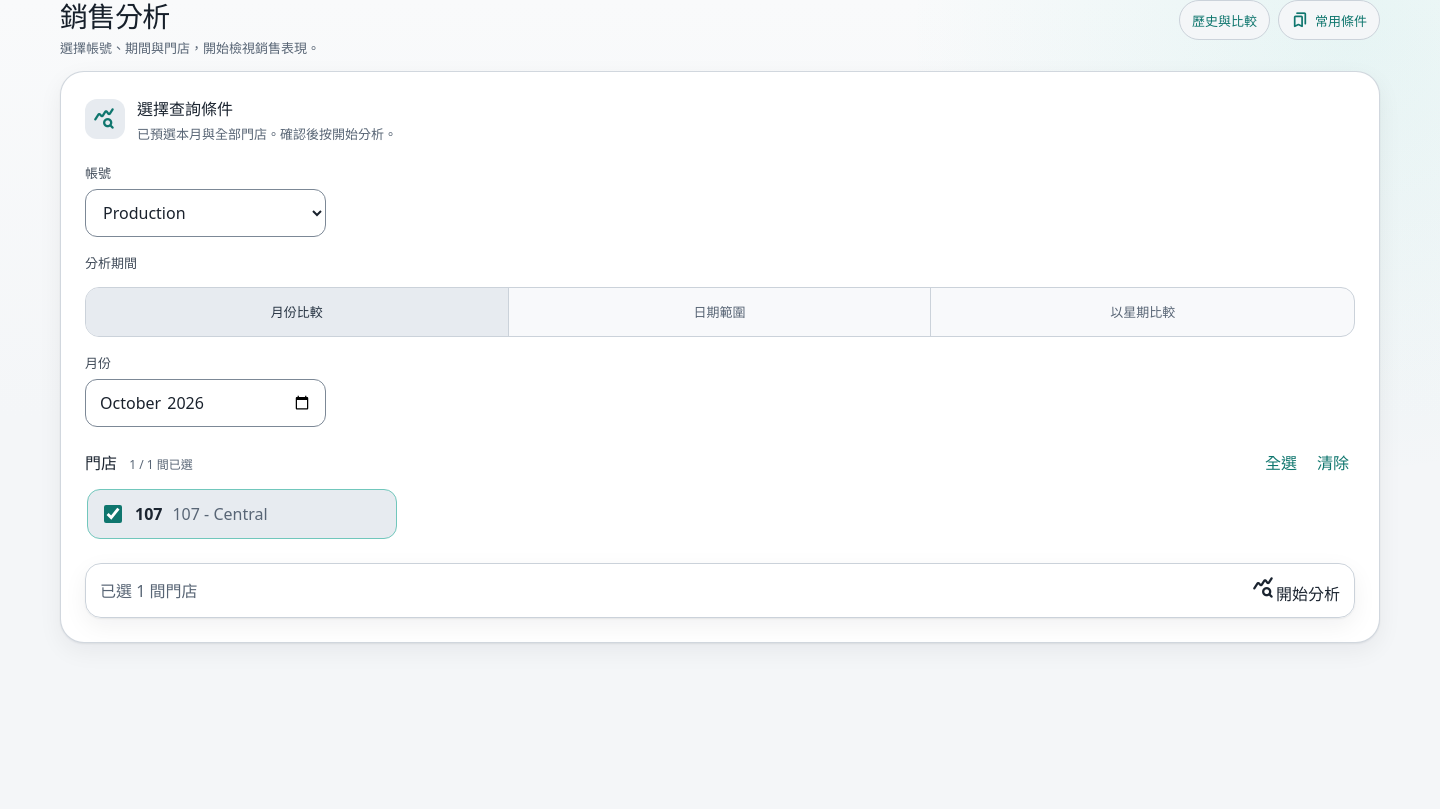
sales analysis page › exports PDFs from a slim analysis without dropping period rows
Expected: the text "107 - Central" is shown, [172,503,268,525]
Click the text "開始分析".
click(1296, 590)  # box [1252,576,1340,605]
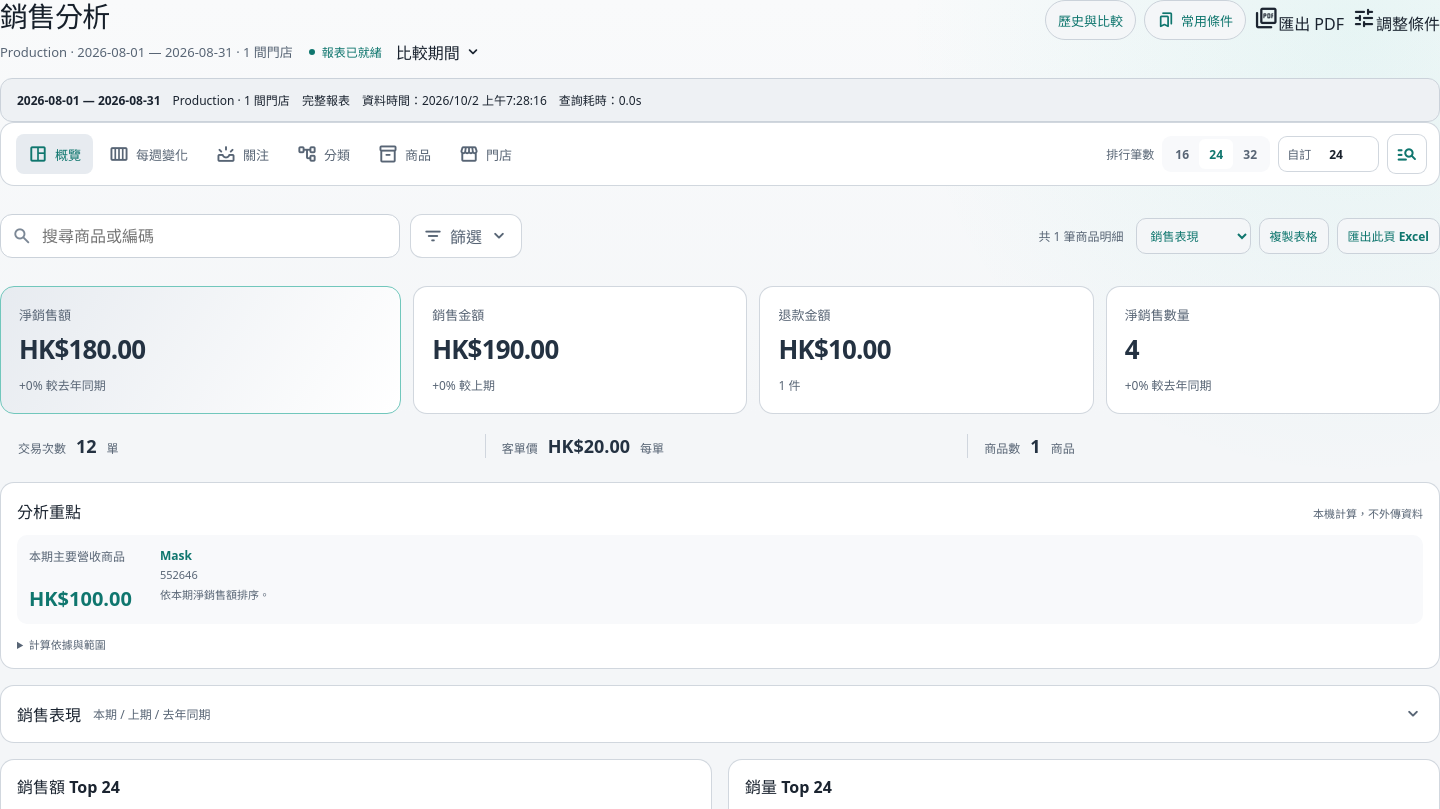
Now the heading "銷售額 Top 24" is shown, box [17,774,120,798]
Click the tab "分類".
click(324, 154)  # box [285,134,362,174]
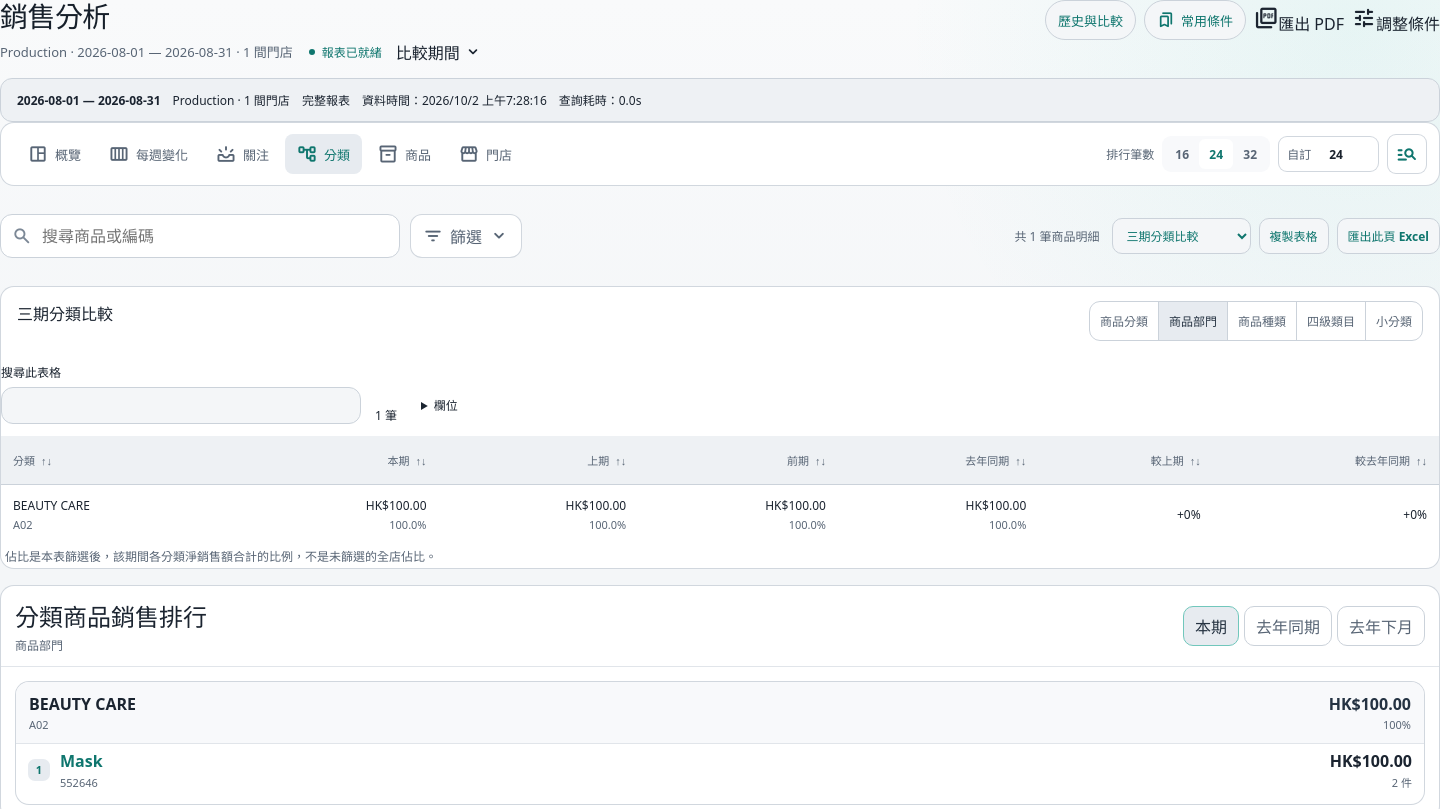
Now the heading "三期分類比較" is shown, box [17,301,113,325]
Click the text "匯出 PDF".
click(1299, 20)  # box [1254,6,1344,34]
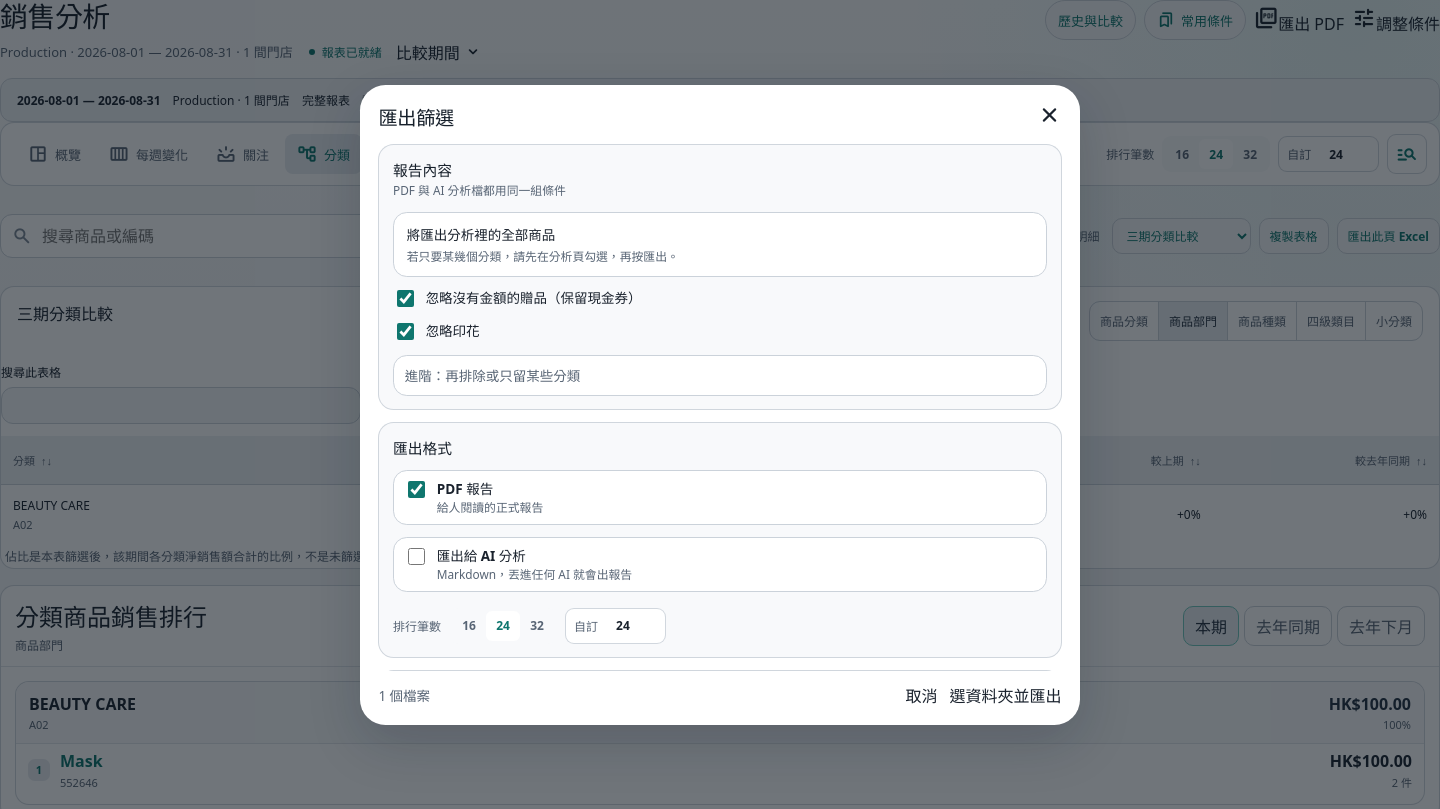
Now the heading "匯出篩選" is shown, box [378,106,454,129]
Click the text "選資料夾並匯出".
click(1006, 695)  # box [950,683,1062,707]
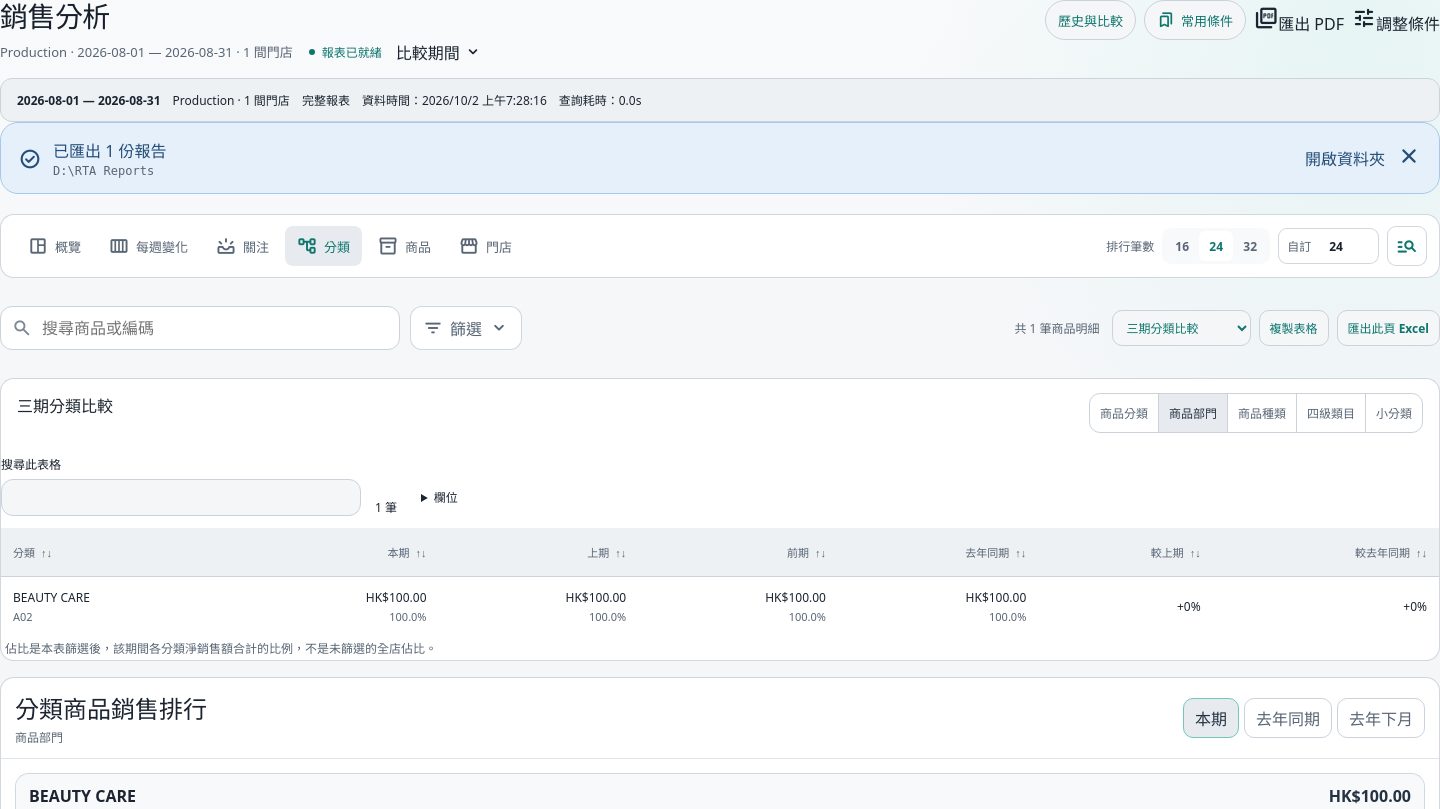
Now the text "已匯出 1 份報告" is shown, box [53,140,166,162]
